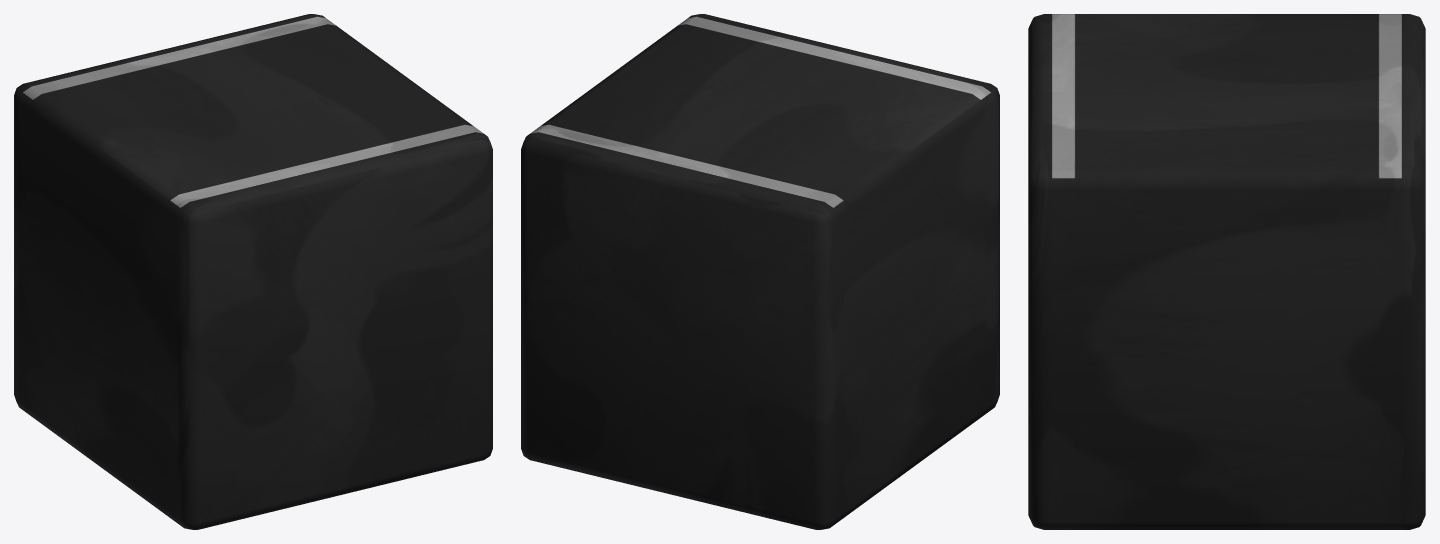
Rendered from 01 Asphalt.fbx.
The picture shows the model from 3 angles, left to right: view 1: azimuth 30°, elevation 25°; view 2: azimuth 150°, elevation 25°; view 3: azimuth 270°, elevation 25°; orthographic projection. The views are drawn at different scales.
Parts seen in each view (by area): view 1: Asphalt.001; view 2: Asphalt.001; view 3: Asphalt.001.
Boxes of the visible parts, x1,y1,x2,y2 form: Asphalt.001: (14, 14, 492, 529); Asphalt.001: (521, 14, 999, 529); Asphalt.001: (1028, 14, 1425, 529).
Size of the model in its own units: 100 by 100 by 100.
Materials: 1 (1 with a texture image).
